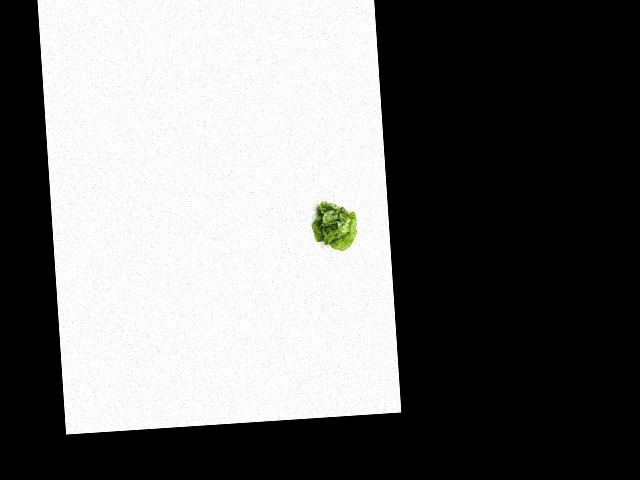lettuce: (307, 197, 362, 253)
